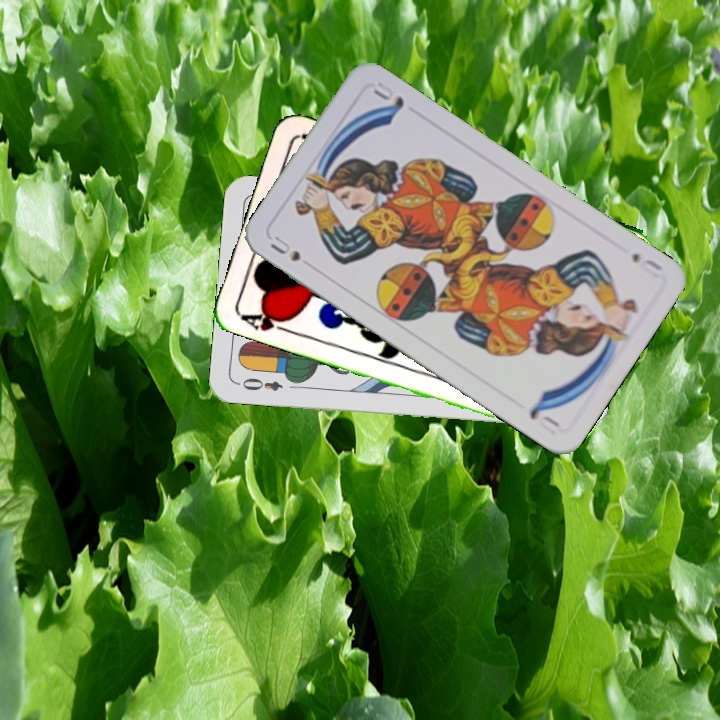EO: (233, 374, 285, 394)
HA: (237, 305, 295, 336)
SU: (266, 231, 303, 265), (627, 249, 666, 281)
